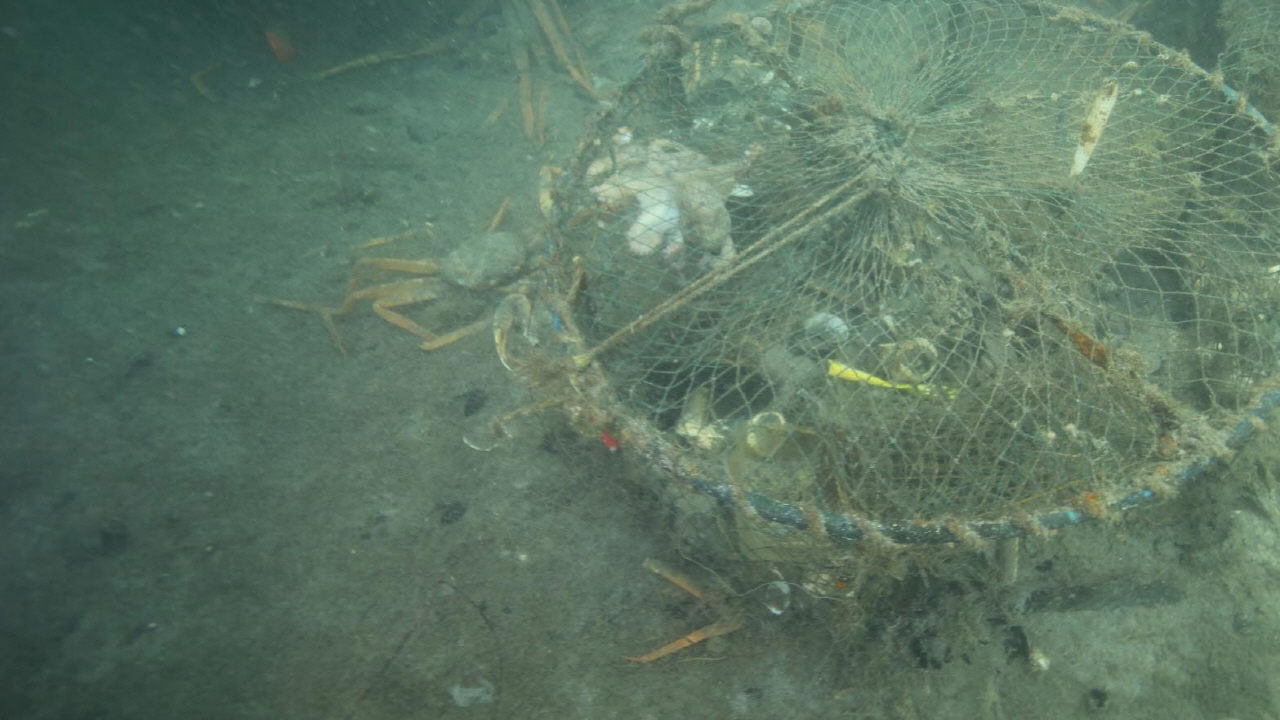circular fish trap: (552, 0, 1280, 600)
